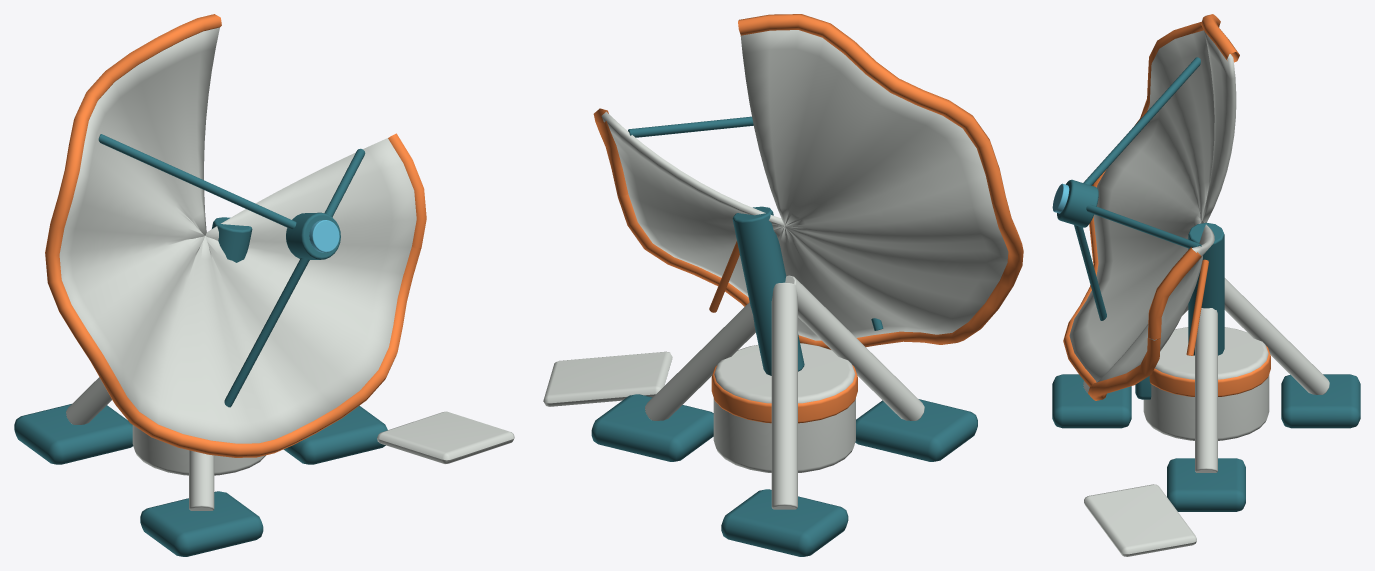
The model's file is Radio_Dish_Broken.glb.
3 views of the same model, side by side, from view 1: azimuth 30°, elevation 25°; view 2: azimuth 150°, elevation 25°; view 3: azimuth 270°, elevation 25° (orthographic). The views are drawn at different scales.
Visible parts, largest first — view 1: Parabolic reflector • separate.001, Broken dish rim, Wide stabilizer foot.005, Wide stabilizer foot.004, Detached reflector fragment, Wide stabilizer foot.003, Radio equipment pod.001, Feed support.004, Feed support.005, Tripod support.005, Receiver feed.001, Broken dish rim.001 (+4 smaller); view 2: Parabolic reflector • separate.001, Broken dish rim, Radio equipment pod.001, Tripod support.004, Wide stabilizer foot.004, Detached reflector fragment, Wide stabilizer foot.003, Wide stabilizer foot.005, Bent mast, Tripod support.005, Tripod support.003, Orange service band.001 (+3 smaller); view 3: Parabolic reflector • separate.001, Radio equipment pod.001, Detached reflector fragment, Broken dish rim, Wide stabilizer foot.003, Wide stabilizer foot.004, Tripod support.003, Wide stabilizer foot.005, Tripod support.004, Bent mast, Orange service band.001, Broken dish rim.001 (+5 smaller).
Part boxes in pixels (<box>): Parabolic reflector • separate.001: <box>59,27,416,443</box>; Broken dish rim: <box>45,14,421,457</box>; Wide stabilizer foot.005: <box>140,491,263,556</box>; Wide stabilizer foot.004: <box>14,404,133,464</box>; Detached reflector fragment: <box>377,411,514,464</box>; Wide stabilizer foot.003: <box>283,405,387,464</box>; Radio equipment pod.001: <box>132,425,265,475</box>; Feed support.004: <box>98,134,296,229</box>; Feed support.005: <box>224,258,309,407</box>; Tripod support.005: <box>189,450,214,510</box>; Receiver feed.001: <box>286,212,340,259</box>; Broken dish rim.001: <box>388,133,426,248</box>; Parabolic reflector • separate.001: <box>601,30,1008,340</box>; Broken dish rim: <box>617,14,1023,349</box>; Radio equipment pod.001: <box>713,343,855,472</box>; Tripod support.004: <box>771,282,797,509</box>; Wide stabilizer foot.004: <box>721,489,848,556</box>; Detached reflector fragment: <box>543,351,672,406</box>; Wide stabilizer foot.003: <box>591,394,713,461</box>; Wide stabilizer foot.005: <box>855,399,977,461</box>; Bent mast: <box>732,206,804,375</box>; Tripod support.005: <box>785,275,924,420</box>; Tripod support.003: <box>645,302,755,420</box>; Orange service band.001: <box>711,365,857,423</box>; Parabolic reflector • separate.001: <box>1069,30,1236,382</box>; Radio equipment pod.001: <box>1143,327,1269,440</box>; Detached reflector fragment: <box>1084,484,1196,556</box>; Broken dish rim: <box>1063,14,1239,400</box>; Wide stabilizer foot.003: <box>1167,458,1245,511</box>; Wide stabilizer foot.004: <box>1281,374,1360,428</box>; Tripod support.003: <box>1195,308,1217,472</box>; Wide stabilizer foot.005: <box>1052,374,1131,428</box>; Tripod support.004: <box>1224,278,1329,394</box>; Bent mast: <box>1188,222,1224,355</box>; Orange service band.001: <box>1149,346,1270,396</box>; Broken dish rim.001: <box>1148,247,1201,339</box>.
Bounding box in the file's own units: 2.89 × 2.73 × 1.87.
